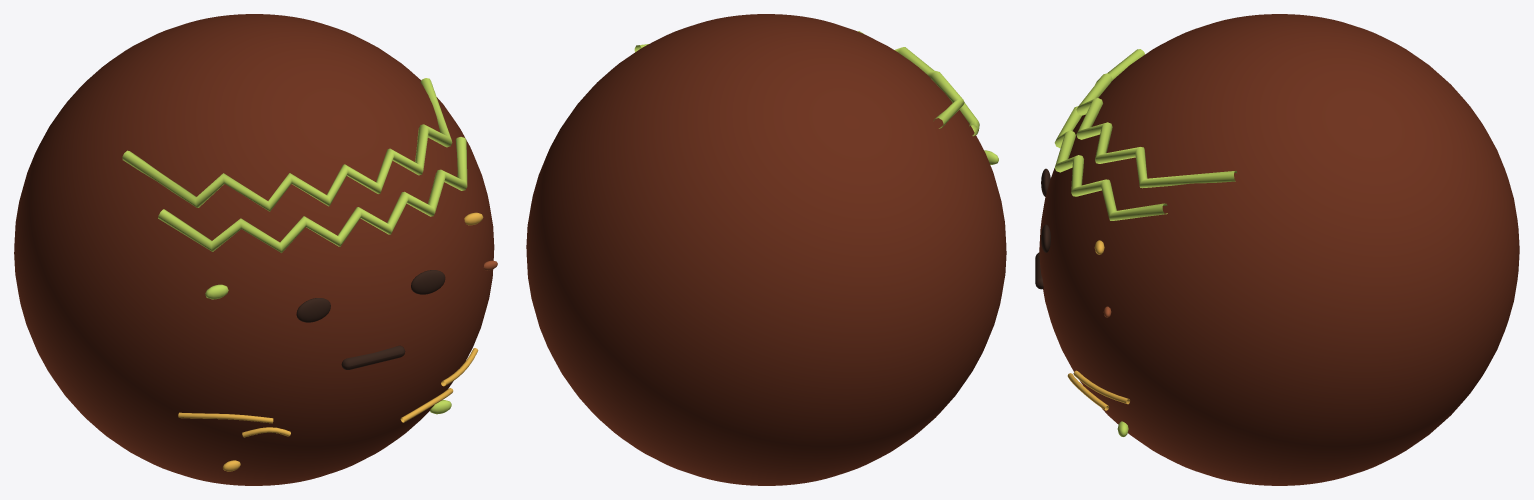
File: dubai.glb
3 renders of one model, left to right at view 1: azimuth 30°, elevation 25°; view 2: azimuth 150°, elevation 25°; view 3: azimuth 270°, elevation 25°, orthographic.
Parts seen in each view (by area): view 1: Dujjonku_ChocolateShell, Dujjonku_PistachioDrizzle_1, Dujjonku_PistachioDrizzle_2, wakppu_dujjonku_mouth, wakppu_dujjonku_eye_L, wakppu_dujjonku_eye_R, Dujjonku_Kataifi_1; view 2: Dujjonku_ChocolateShell, Dujjonku_PistachioDrizzle_1; view 3: Dujjonku_ChocolateShell, Dujjonku_PistachioDrizzle_1, Dujjonku_PistachioDrizzle_2.
Boxes of the visible parts, x1=… form: Dujjonku_ChocolateShell: x1=14, y1=14, x2=494, y2=485; Dujjonku_PistachioDrizzle_1: x1=122, y1=78, x2=452, y2=211; Dujjonku_PistachioDrizzle_2: x1=158, y1=137, x2=467, y2=252; wakppu_dujjonku_mouth: x1=341, y1=345, x2=405, y2=369; wakppu_dujjonku_eye_L: x1=296, y1=298, x2=330, y2=322; wakppu_dujjonku_eye_R: x1=411, y1=270, x2=445, y2=294; Dujjonku_Kataifi_1: x1=178, y1=412, x2=273, y2=423; Dujjonku_ChocolateShell: x1=526, y1=14, x2=1006, y2=485; Dujjonku_PistachioDrizzle_1: x1=634, y1=31, x2=964, y2=128; Dujjonku_ChocolateShell: x1=1039, y1=14, x2=1519, y2=485; Dujjonku_PistachioDrizzle_1: x1=1076, y1=49, x2=1236, y2=188; Dujjonku_PistachioDrizzle_2: x1=1054, y1=106, x2=1167, y2=220.
Size of the model in its own units: 2 by 1.96 by 2.02.
